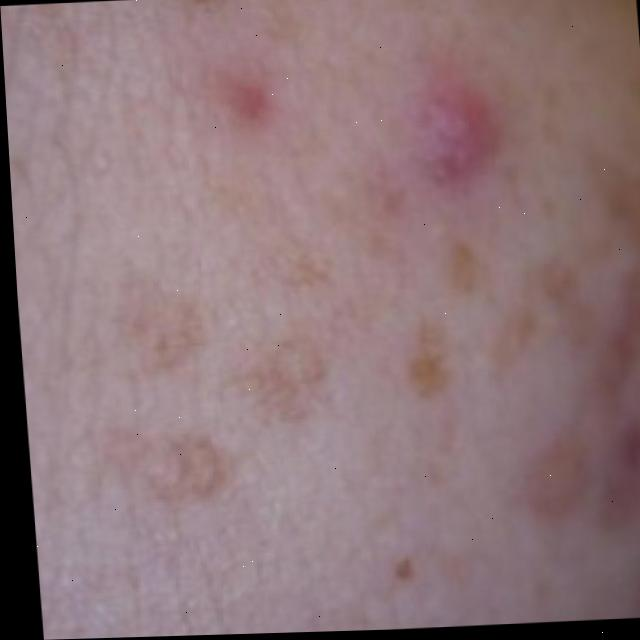Acne: (195, 23, 565, 259)
